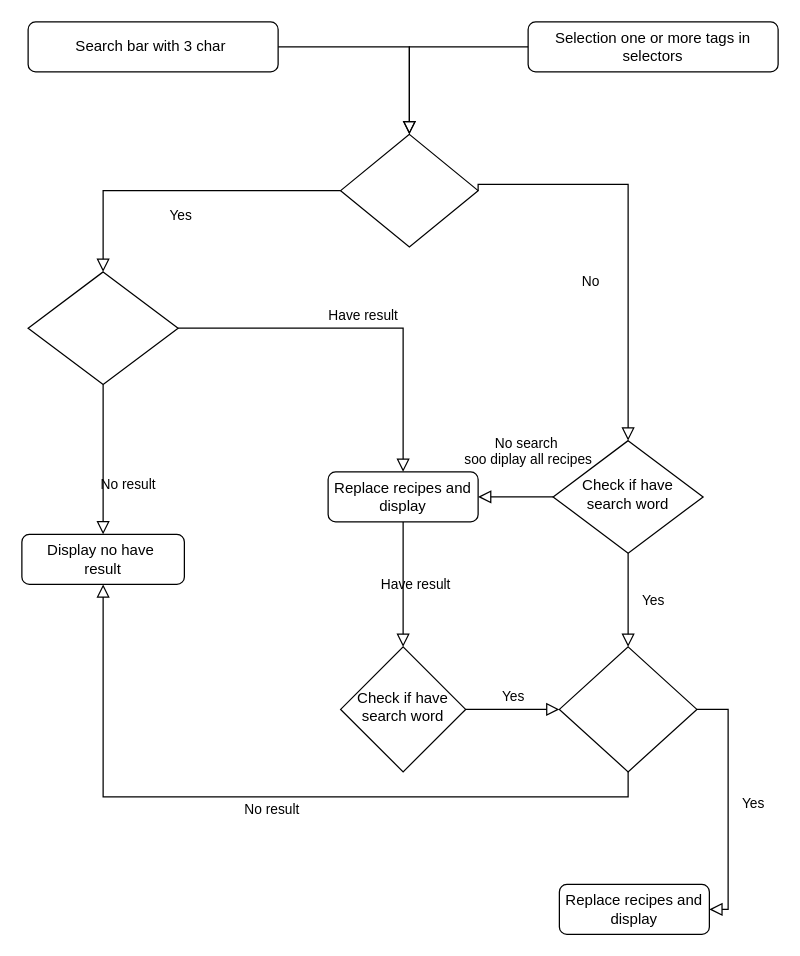
Image size: 800x956. Some labels were removed from this diagram. The shapes that lost their labels are listed below. From the top down, each one's centre as x and y in pixels, then its label:
At point 408,190: "Check if have tags".
At point 102,327: "Filter recipes by tags".
At point 627,709: "Filter recipes by matching".
